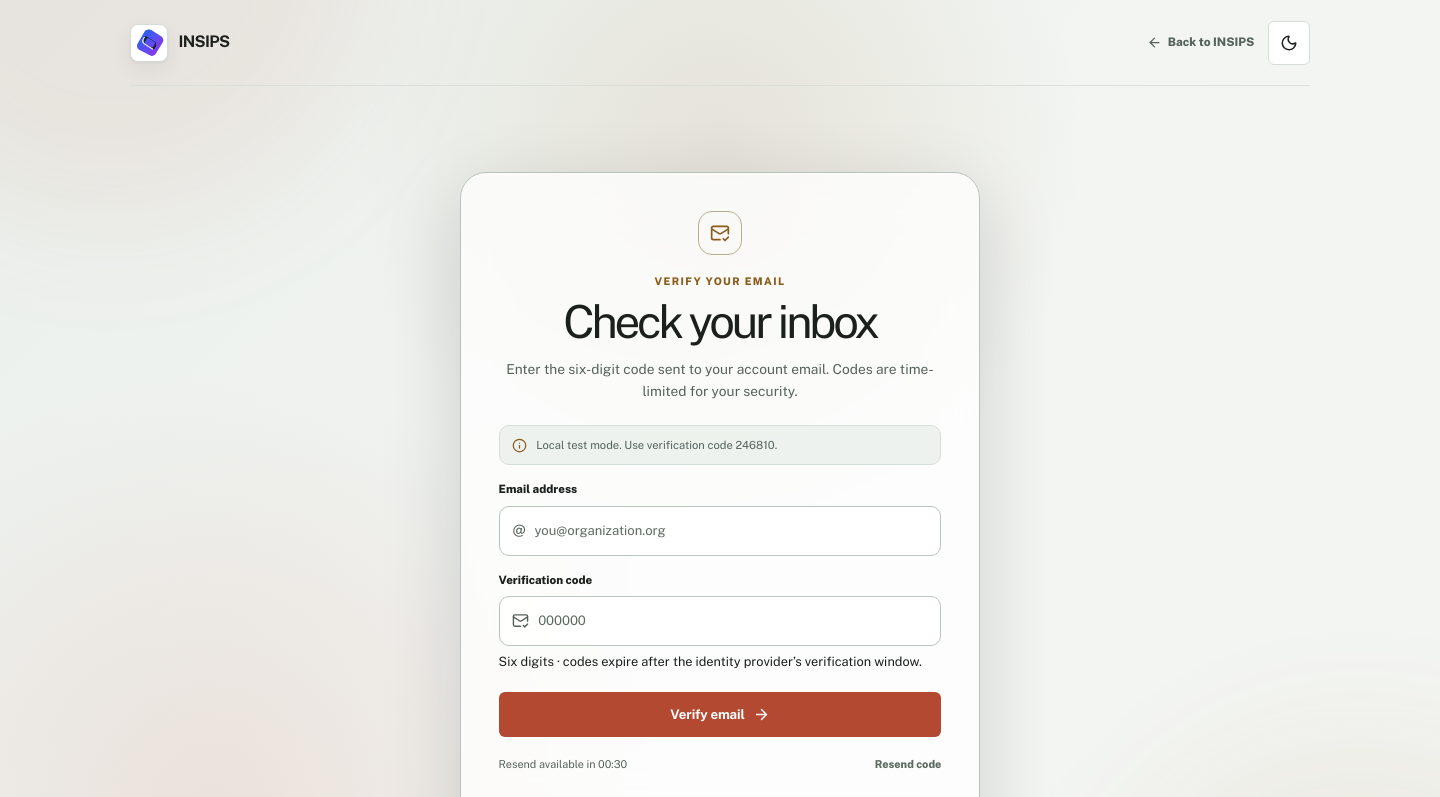
Test case: VerifyEmailExperience › shows the verified completion state
In the field labelled "Email address": (731, 531) [534,520,928,541], type "member@example.org"
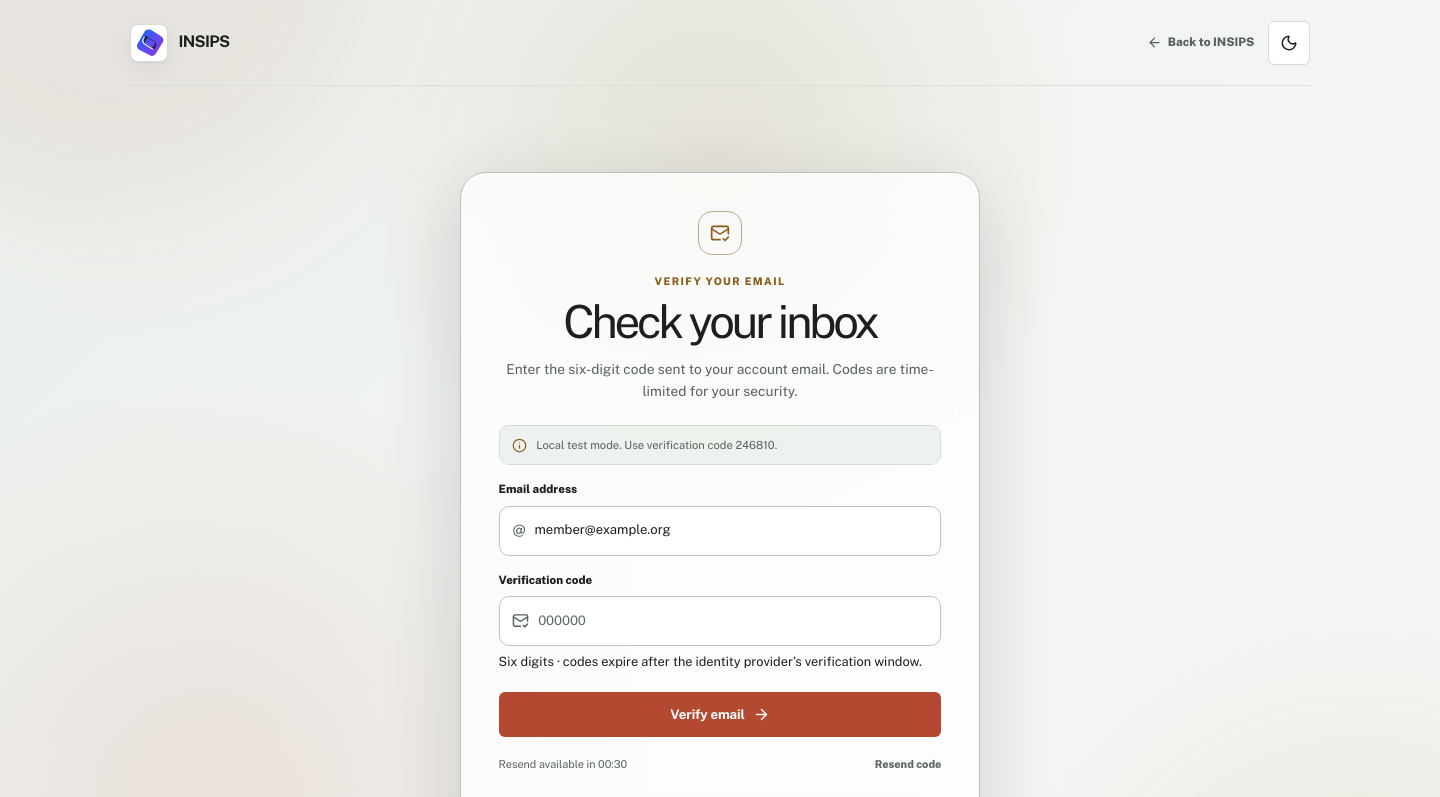
In the field labelled "Verification code": (733, 621) [538,611,928,631], type "246810"
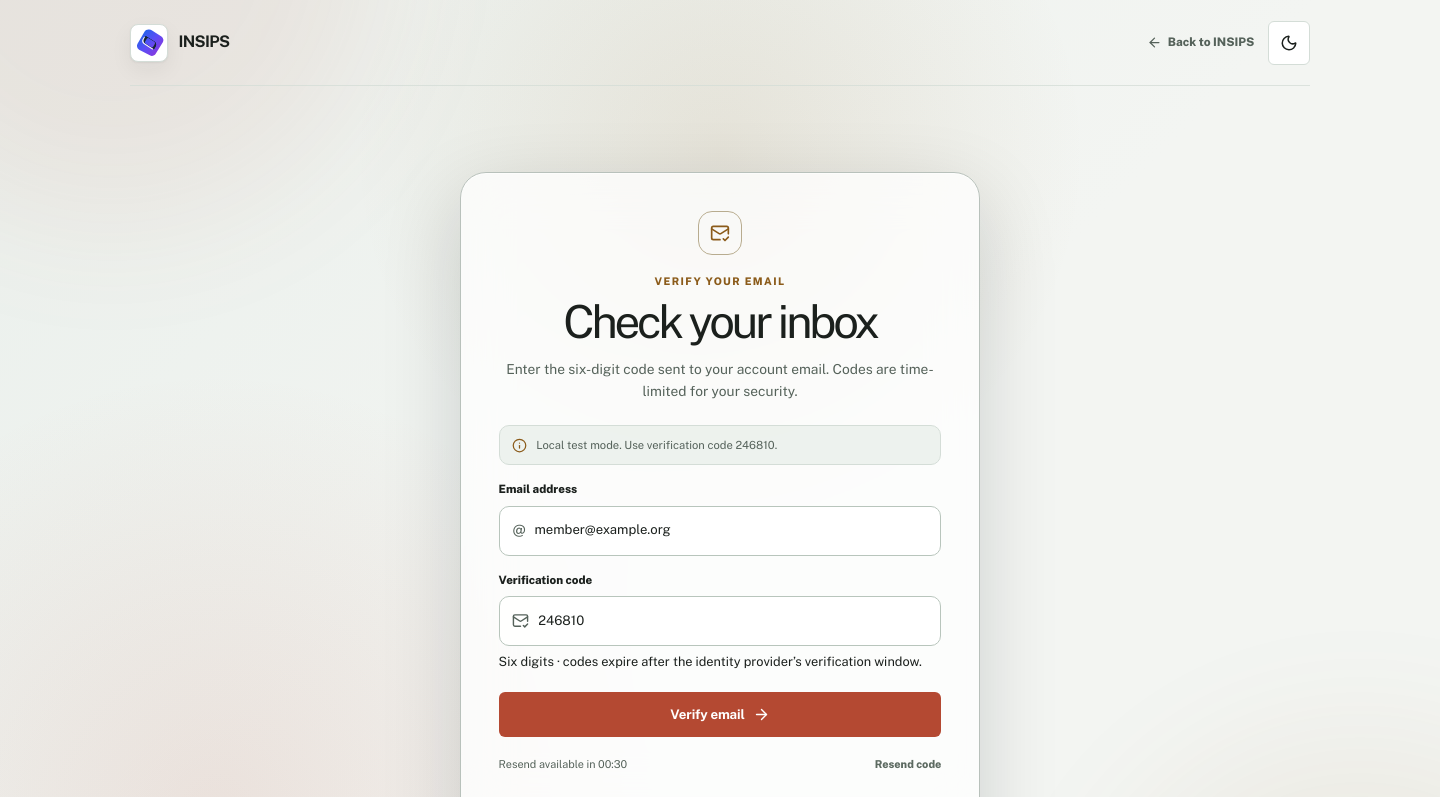
Click the button "Verify email": (720, 715) [499,692,941,737]
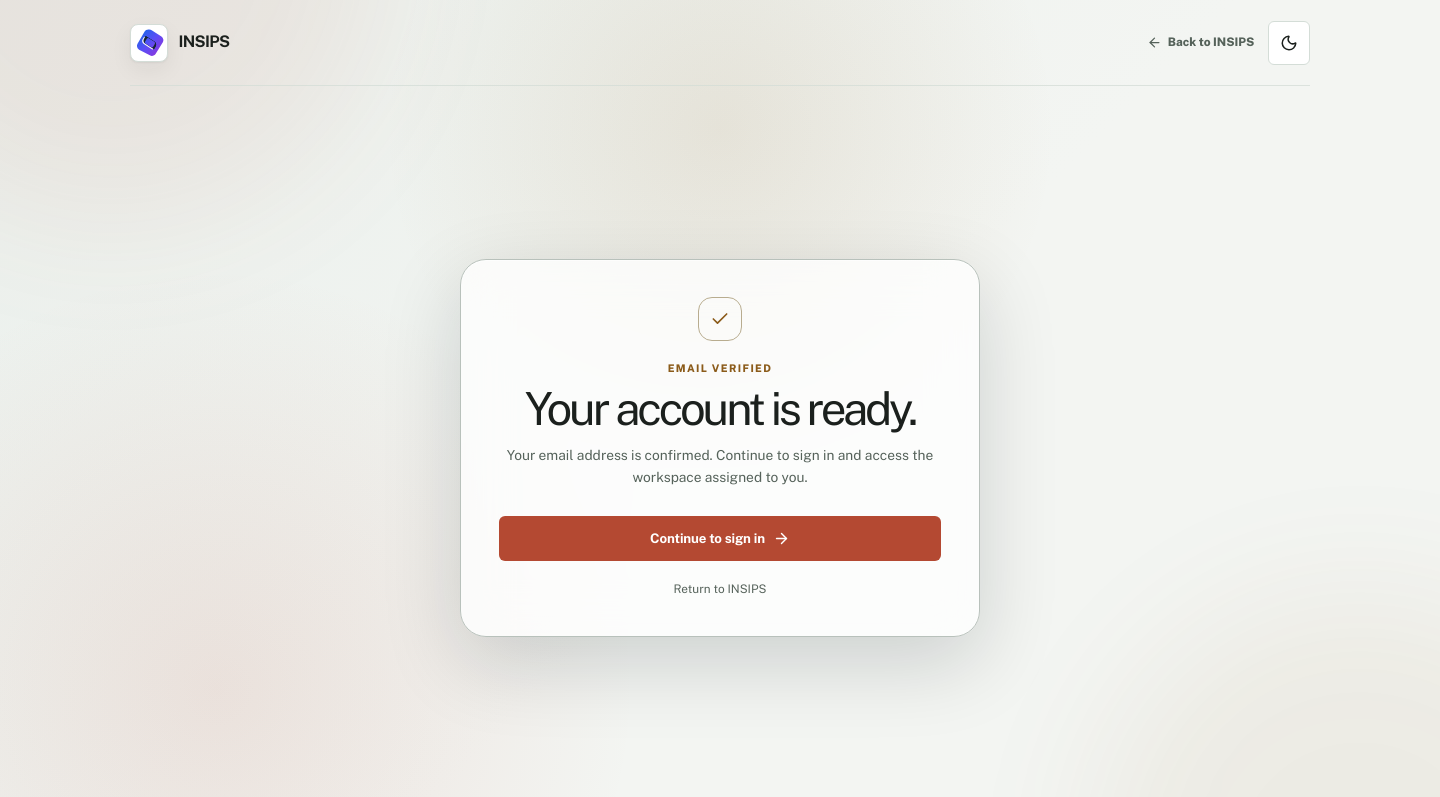
Expected: the message shows "Email verified", [668,362,772,374]
